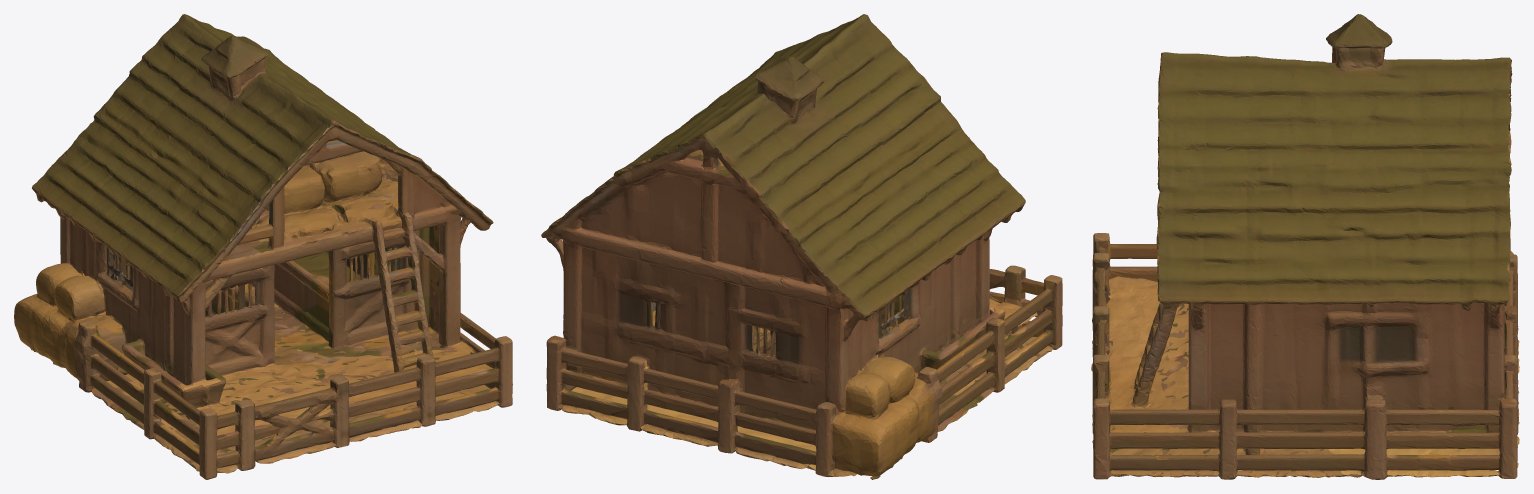
The model's file is wc-stable-paint.glb.
3 views of the same model, side by side, from view 1: azimuth 30°, elevation 25°; view 2: azimuth 150°, elevation 25°; view 3: azimuth 270°, elevation 25° (orthographic). The views are drawn at different scales.
Visible parts, largest first — view 1: geometry_0; view 2: geometry_0; view 3: geometry_0.
Boxes of the visible parts, x1,y1,x2,y2 form: geometry_0: [14, 14, 512, 479]; geometry_0: [541, 14, 1062, 479]; geometry_0: [1091, 14, 1519, 479].
Bounding box in the file's own units: 1.99 × 1.9 × 1.97.
Materials: 1 (1 with a texture image).
